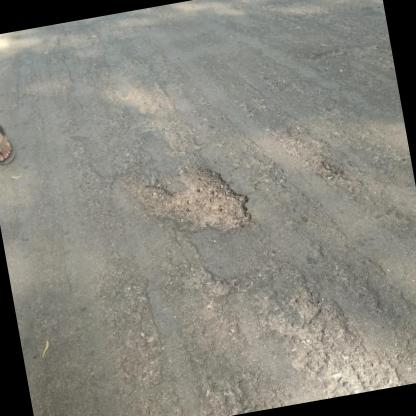pothole: (124, 154, 258, 250)
